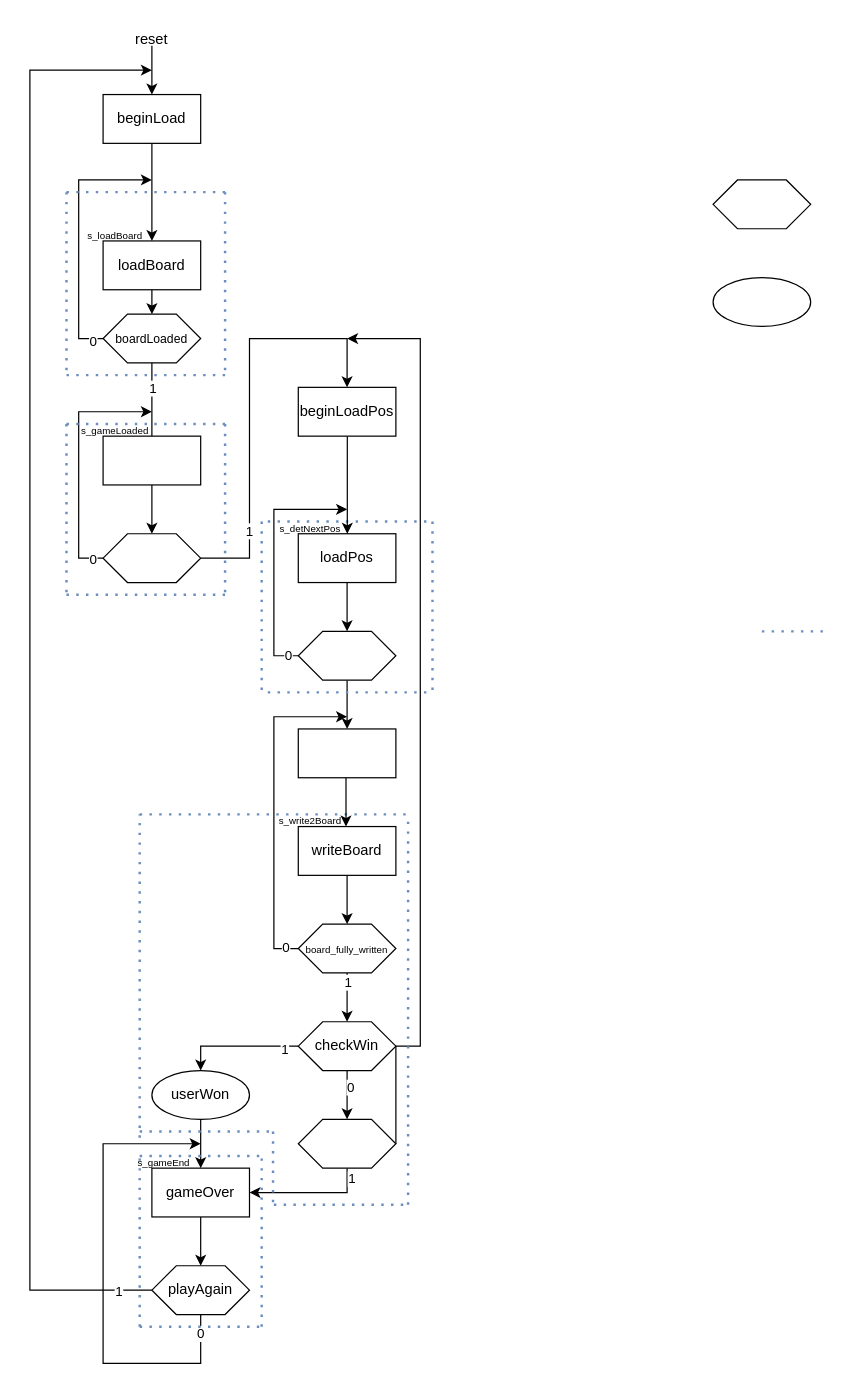
Some shapes in this 847 by 1394 pixel diagram are drawn without their labels. Each missing label, with the box of its shape:
all_next_pos_ready: (297, 630, 396, 680)
beginWriteBoard: (297, 728, 396, 778)
checkLoss: (297, 1118, 396, 1168)
Ready: (102, 435, 201, 485)
start: (102, 533, 201, 583)
